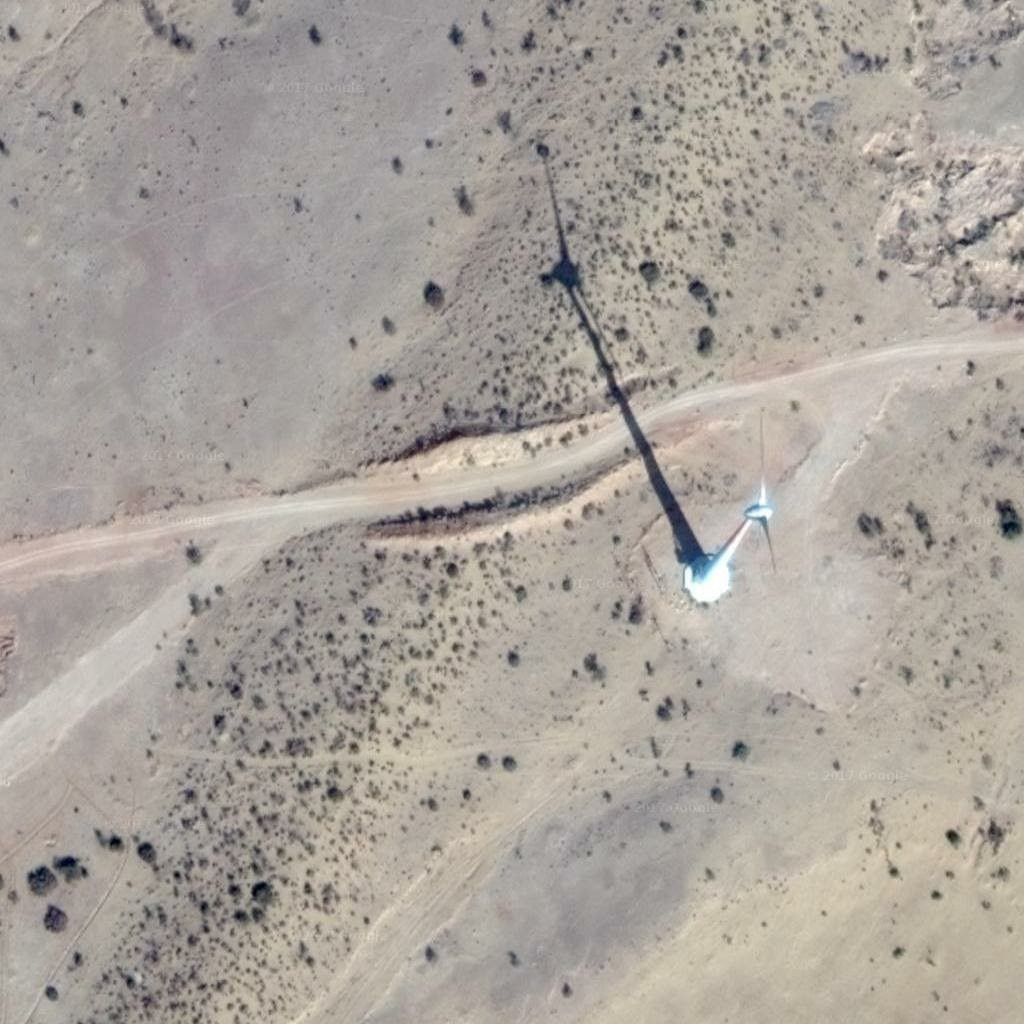Windmill: (517, 159, 716, 547)
